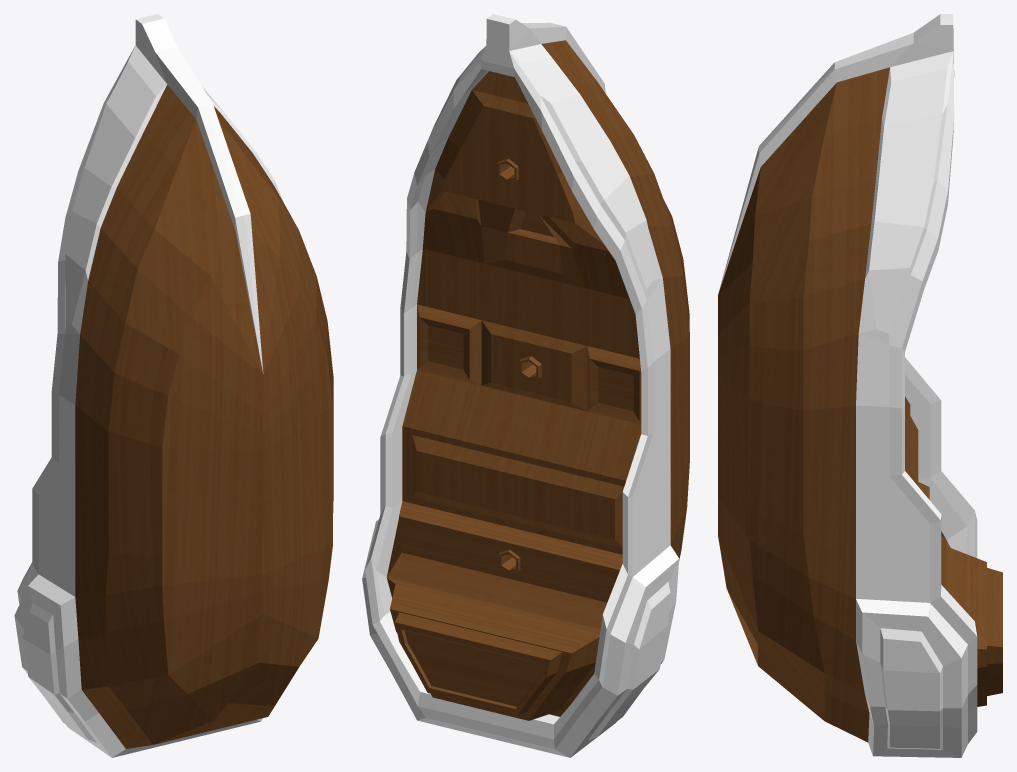
File: body_6.fbx
3 renders of one model, left to right at view 1: azimuth 30°, elevation 25°; view 2: azimuth 150°, elevation 25°; view 3: azimuth 270°, elevation 25°, orthographic. The views are drawn at different scales.
Parts seen in each view (by area): view 1: Cube.023; view 2: Cube.023; view 3: Cube.023.
Part boxes in pixels (left/top/right/bottom): Cube.023: left=14, top=14, right=333, bottom=757; Cube.023: left=362, top=14, right=689, bottom=757; Cube.023: left=718, top=14, right=1002, bottom=757.
Size of the model in its own units: 189 by 473 by 173.
